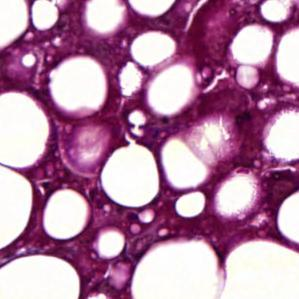steatosis: (2, 92, 49, 169), (0, 254, 80, 299), (42, 189, 90, 242), (278, 190, 299, 243)
